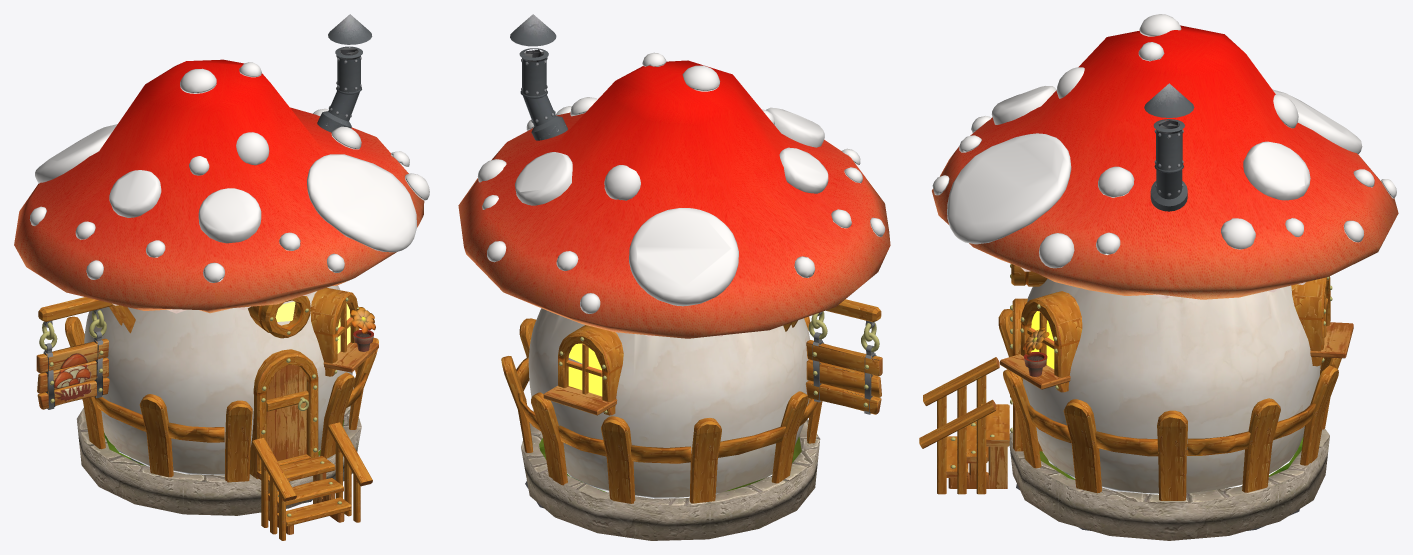
File: mushroom.glb
3 renders of one model, left to right at view 1: azimuth 30°, elevation 25°; view 2: azimuth 150°, elevation 25°; view 3: azimuth 270°, elevation 25°, orthographic. The views are drawn at different scales.
Visible parts, largest first — view 1: pCylinder1_House_Top_Reddish_0, pCylinder2_Doorway_0, pCylinder1_House_Core_Area_0, pCylinder22_white_spots_0, pCylinder1_Base_Color_0, pCube58_The_Sign_Art_0, pCylinder5_Metal_Smokestack_0, pTorus1_Brass_0, polySurface8_Flowery_Pots_0, pTorus2_Light_Gray_0, pCylinder3_Glowy_Stuff_0; view 2: pCylinder1_House_Top_Reddish_0, pCylinder1_House_Core_Area_0, pCylinder2_Doorway_0, pCylinder22_white_spots_0, pCylinder1_Base_Color_0, pCylinder5_Metal_Smokestack_0, pCylinder3_Glowy_Stuff_0, pTorus1_Brass_0, pCube58_The_Sign_Art_0, pTorus2_Light_Gray_0; view 3: pCylinder1_House_Top_Reddish_0, pCylinder1_House_Core_Area_0, pCylinder2_Doorway_0, pCylinder22_white_spots_0, pCylinder1_Base_Color_0, pCylinder5_Metal_Smokestack_0, polySurface8_Flowery_Pots_0.
Boxes of the visible parts, box(x1,y1,x2,y2) form: pCylinder1_House_Top_Reddish_0: box(14, 59, 424, 313); pCylinder2_Doorway_0: box(38, 287, 378, 540); pCylinder1_House_Core_Area_0: box(84, 285, 352, 474); pCylinder22_white_spots_0: box(29, 62, 429, 282); pCylinder1_Base_Color_0: box(76, 405, 361, 515); pCube58_The_Sign_Art_0: box(36, 338, 109, 409); pCylinder5_Metal_Smokestack_0: box(317, 14, 372, 132); pTorus1_Brass_0: box(39, 297, 358, 516); polySurface8_Flowery_Pots_0: box(350, 307, 375, 351); pTorus2_Light_Gray_0: box(43, 308, 103, 409); pCylinder3_Glowy_Stuff_0: box(275, 301, 350, 353); pCylinder1_House_Top_Reddish_0: box(458, 60, 890, 338); pCylinder1_House_Core_Area_0: box(528, 308, 810, 497); pCylinder2_Doorway_0: box(501, 299, 881, 503); pCylinder22_white_spots_0: box(477, 52, 885, 313); pCylinder1_Base_Color_0: box(521, 419, 820, 540); pCylinder5_Metal_Smokestack_0: box(510, 14, 567, 140); pCylinder3_Glowy_Stuff_0: box(568, 343, 602, 396); pTorus1_Brass_0: box(558, 311, 879, 413); pCube58_The_Sign_Art_0: box(805, 340, 882, 414); pTorus2_Light_Gray_0: box(813, 311, 875, 414); pCylinder1_House_Top_Reddish_0: box(932, 25, 1398, 299); pCylinder1_House_Core_Area_0: box(1022, 279, 1320, 493); pCylinder2_Doorway_0: box(919, 264, 1353, 500); pCylinder22_white_spots_0: box(932, 14, 1396, 268); pCylinder1_Base_Color_0: box(1009, 429, 1329, 540); pCylinder5_Metal_Smokestack_0: box(1144, 83, 1194, 211); polySurface8_Flowery_Pots_0: box(1023, 327, 1049, 376).
Bounding box in the file's own units: 4.81 × 5.13 × 4.81.
15 materials, 8 textured.
